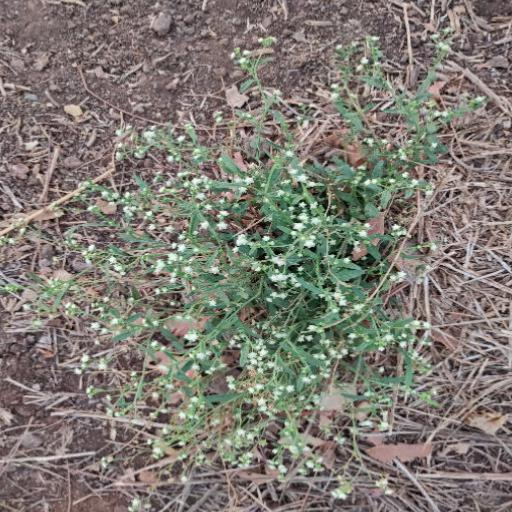weed: (107, 103, 425, 421)
